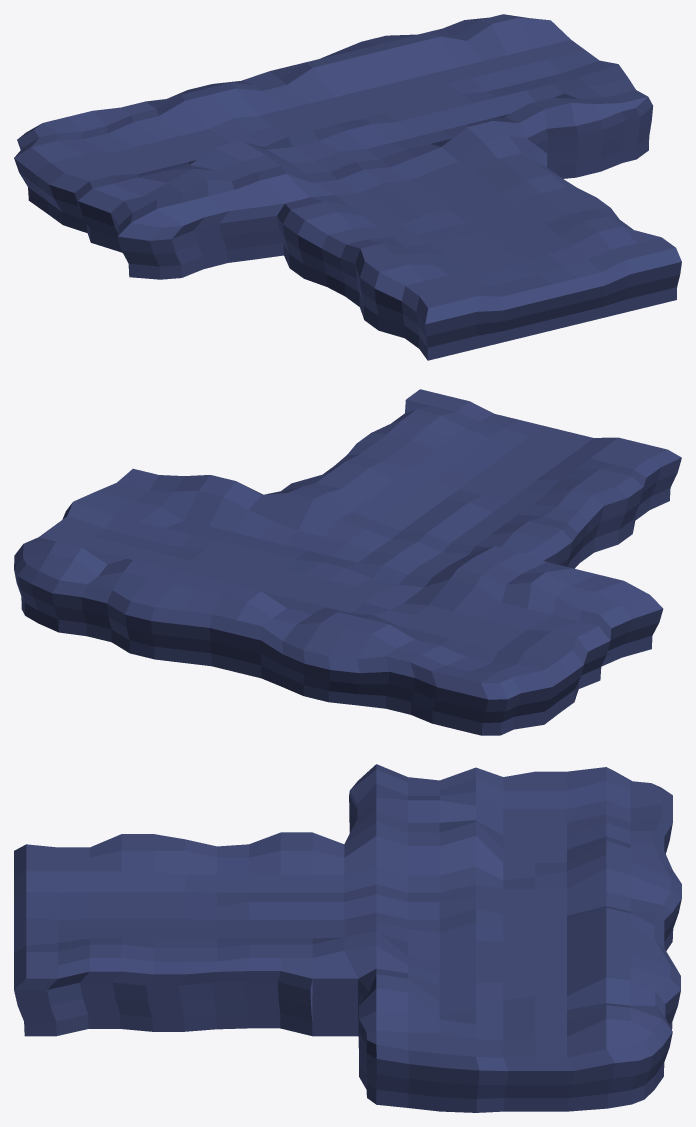
File: A2_Ground_Base.fbx
3 renders of one model, top to bottom at view 1: azimuth 30°, elevation 25°; view 2: azimuth 150°, elevation 25°; view 3: azimuth 270°, elevation 25°, orthographic. The views are drawn at different scales.
Parts seen in each view (by area): view 1: A2_Ground01.001; view 2: A2_Ground01.001; view 3: A2_Ground01.001.
Boxes of the visible parts, bbox=[...] form: A2_Ground01.001: bbox=[14, 14, 681, 360]; A2_Ground01.001: bbox=[14, 389, 681, 735]; A2_Ground01.001: bbox=[14, 764, 681, 1112].
Bounding box in the file's own units: 2224 × 269 × 2100.
1 material, 1 textured.
